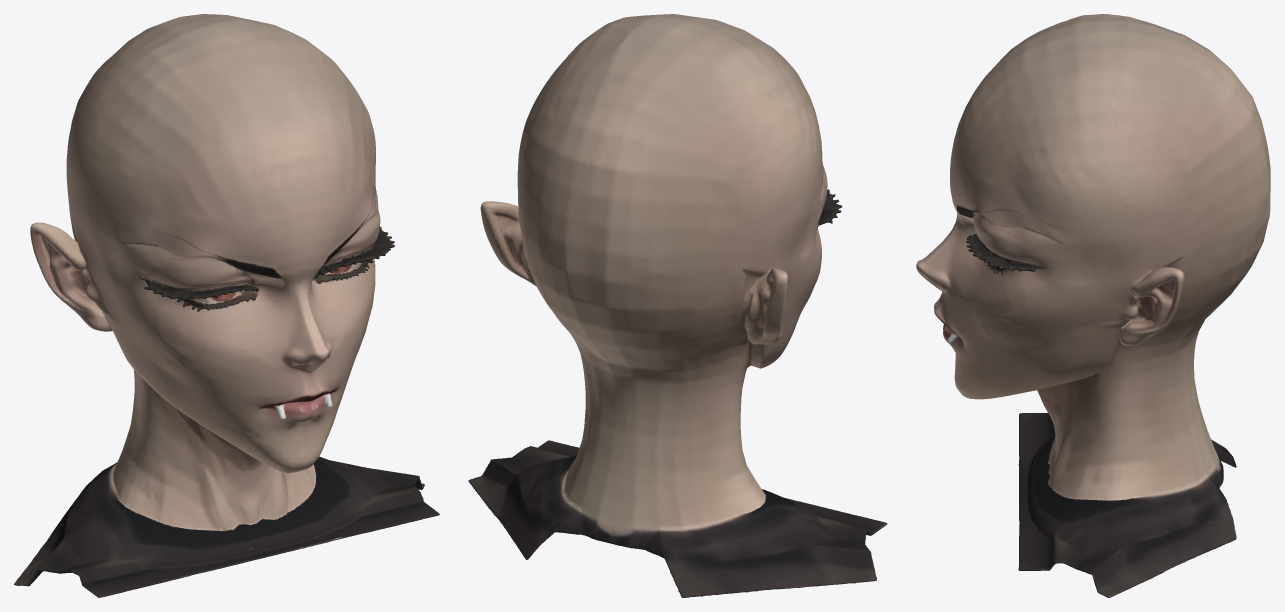
The model's file is head7_s56_pixal3d.glb.
The picture shows the model from 3 angles, left to right: view 1: azimuth 30°, elevation 25°; view 2: azimuth 150°, elevation 25°; view 3: azimuth 270°, elevation 25°; orthographic projection. The views are drawn at different scales.
Size of the model in its own units: 0.8262 by 0.9687 by 0.657.
1 material, 1 textured.
